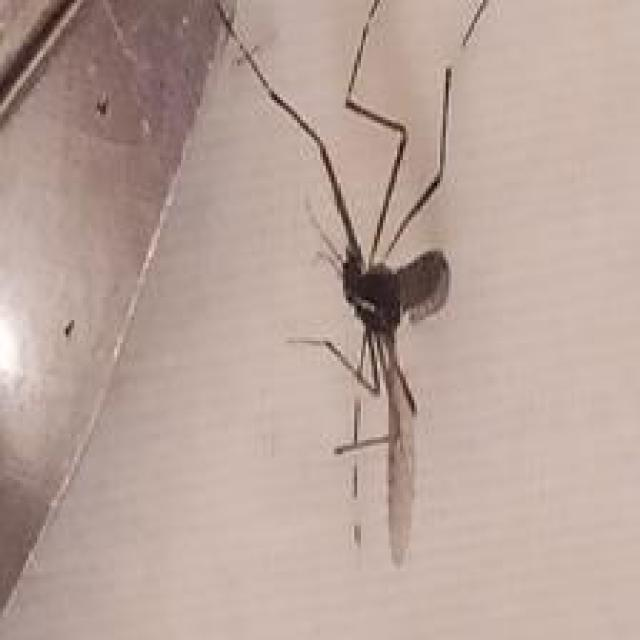Aedes albopictus: (204, 0, 502, 566)
